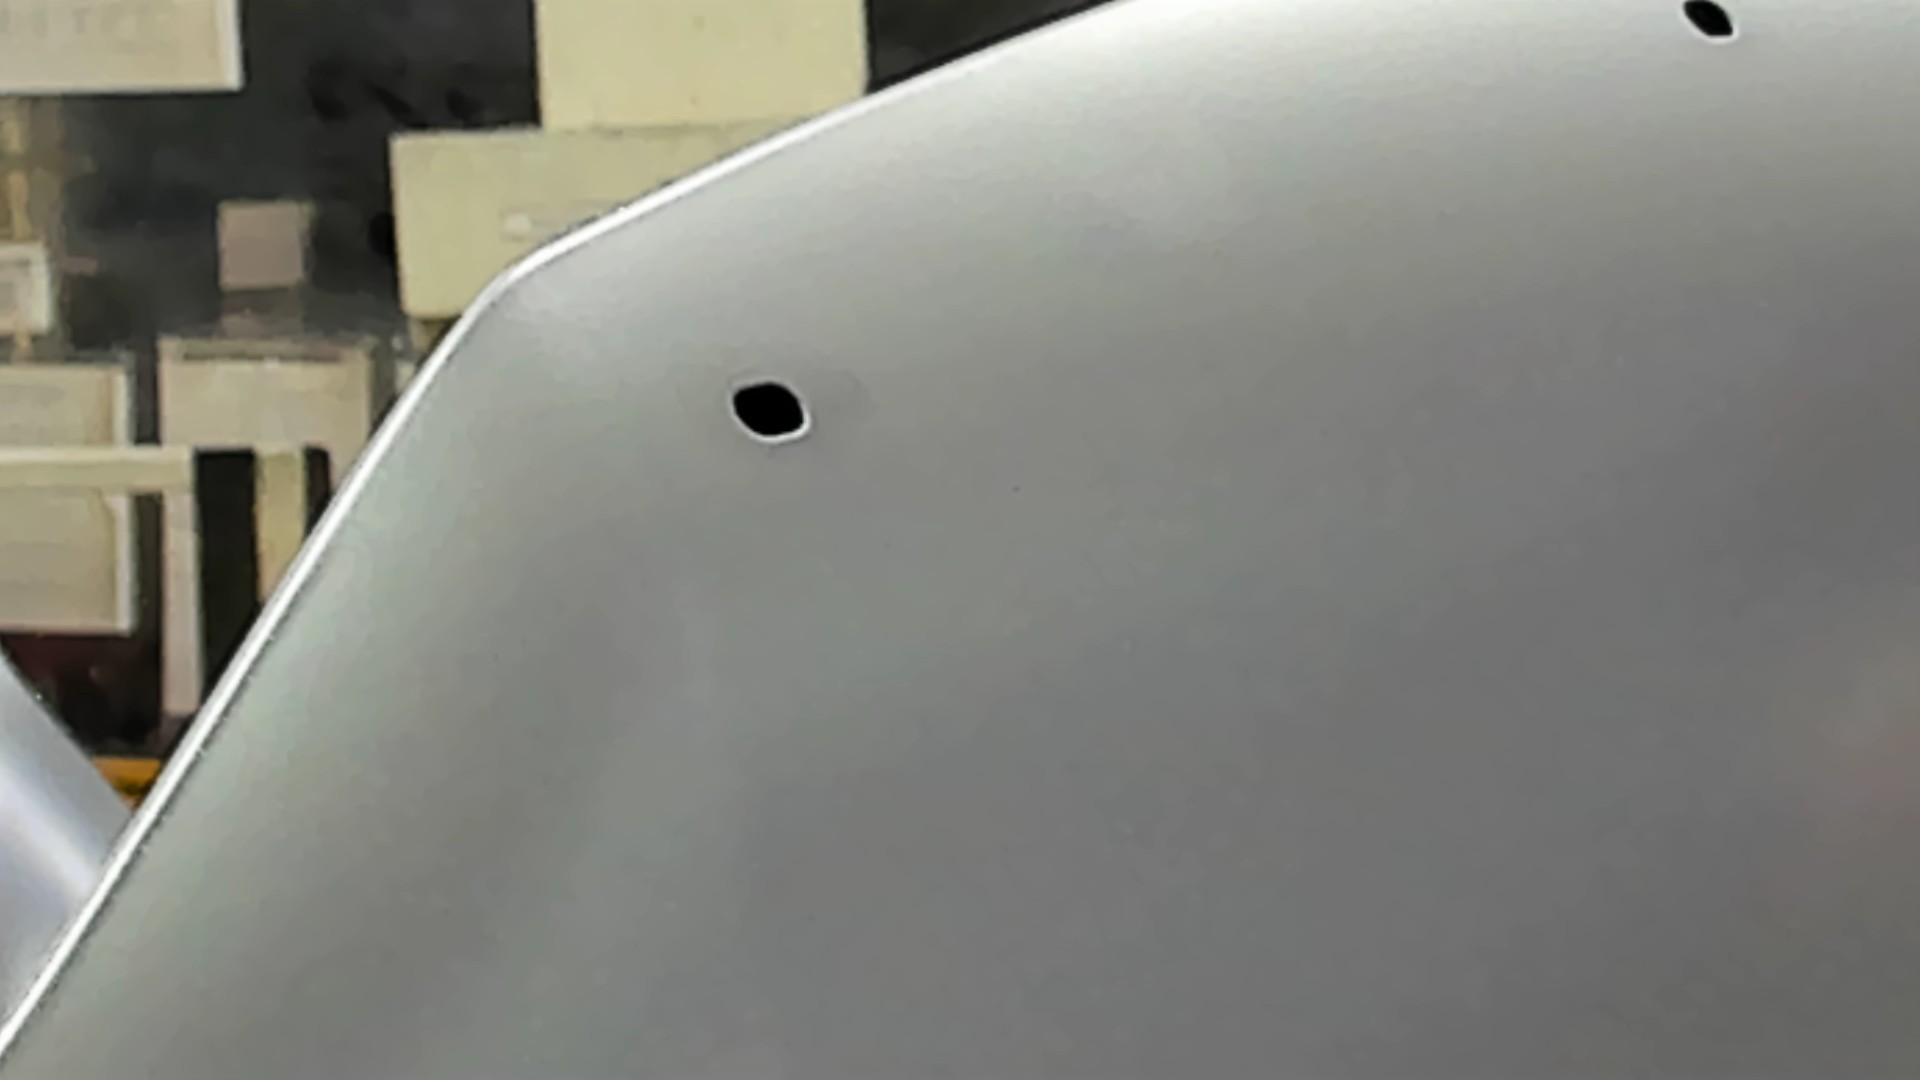amorfo: (724, 378, 818, 446), (1679, 1, 1742, 49)
capo: (961, 98, 1920, 1080)
